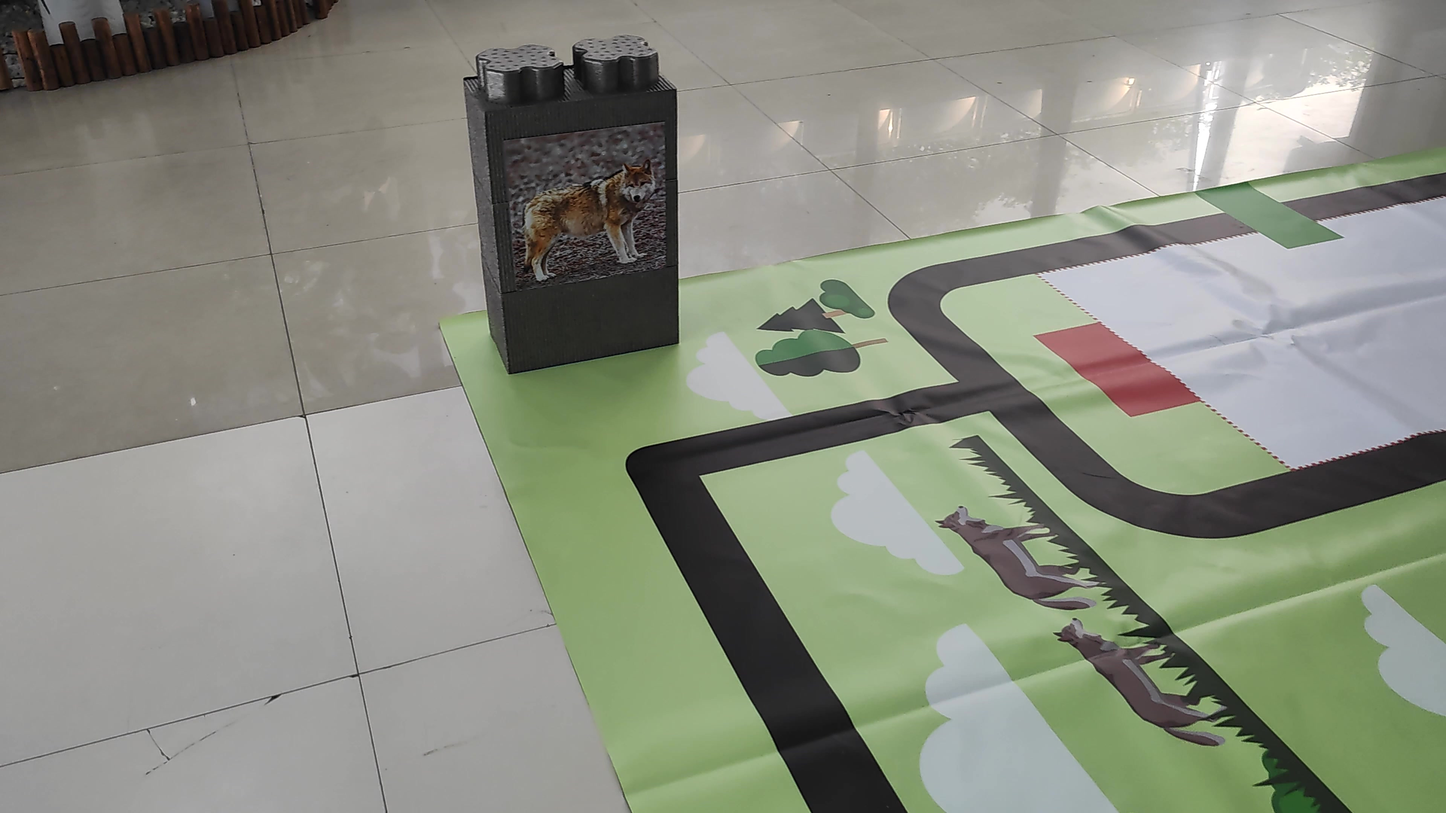wolf: (505, 120, 660, 297)
